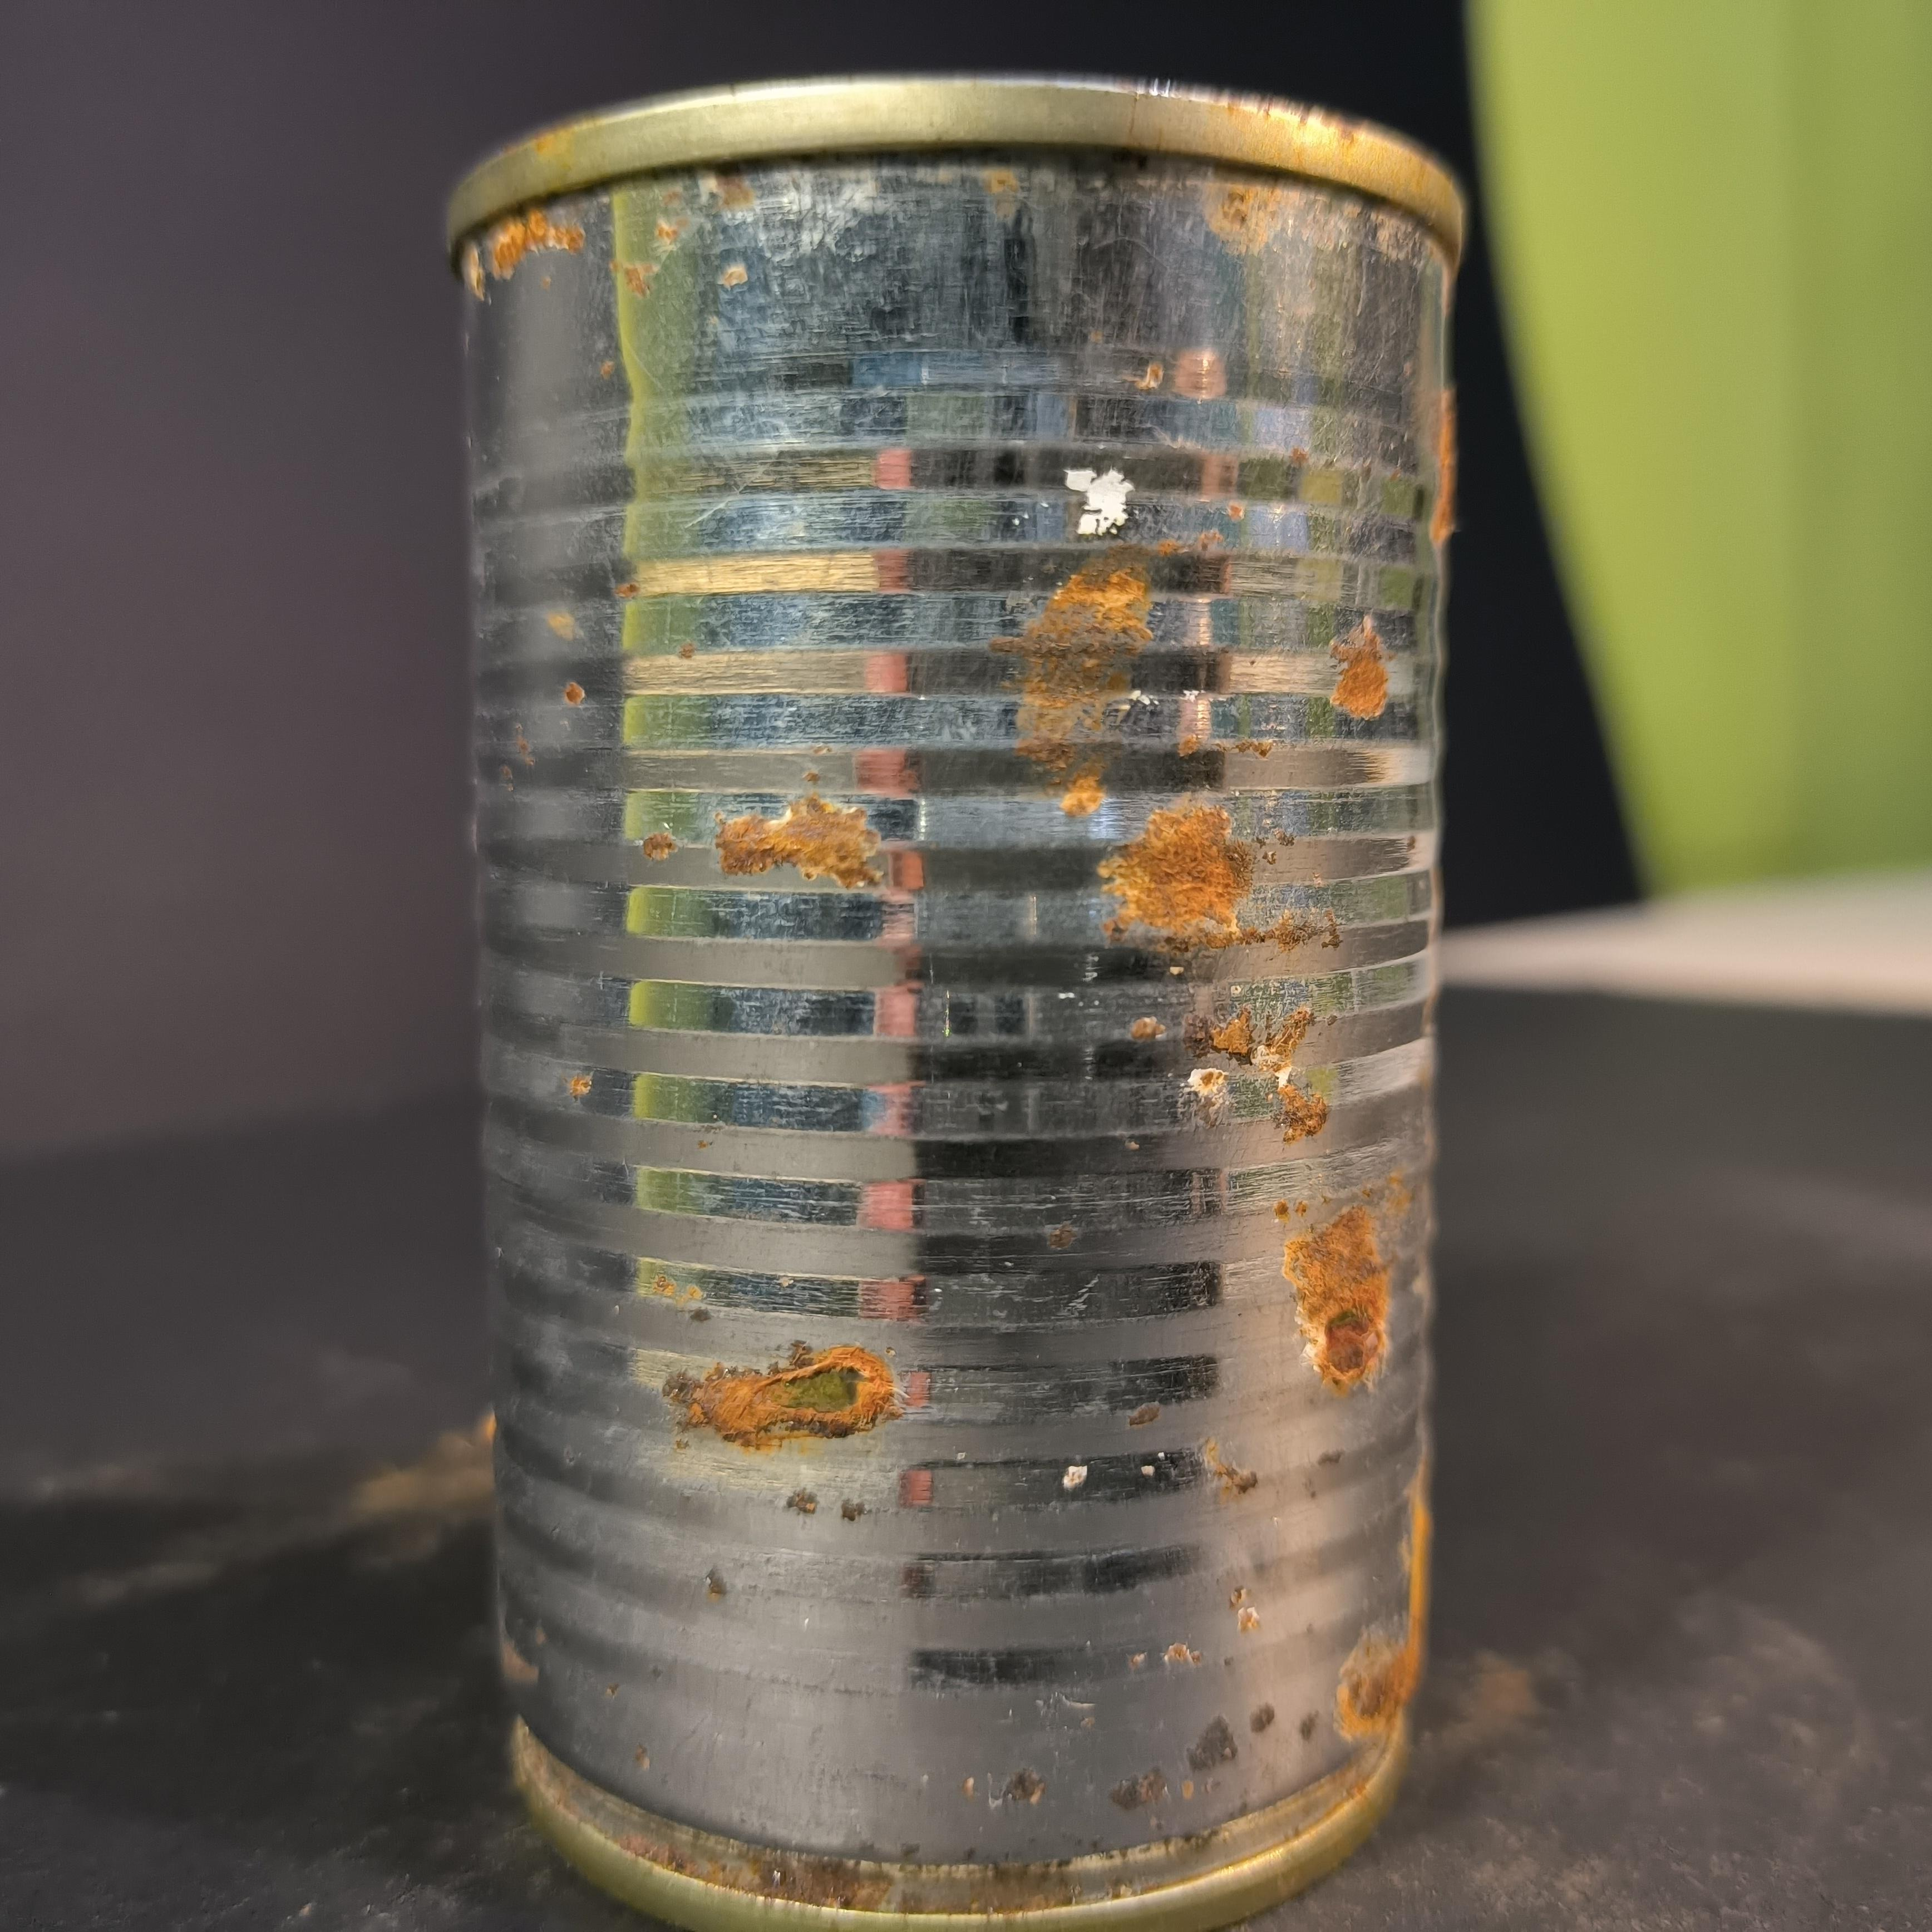Rusted: (428, 42, 1500, 1932)
